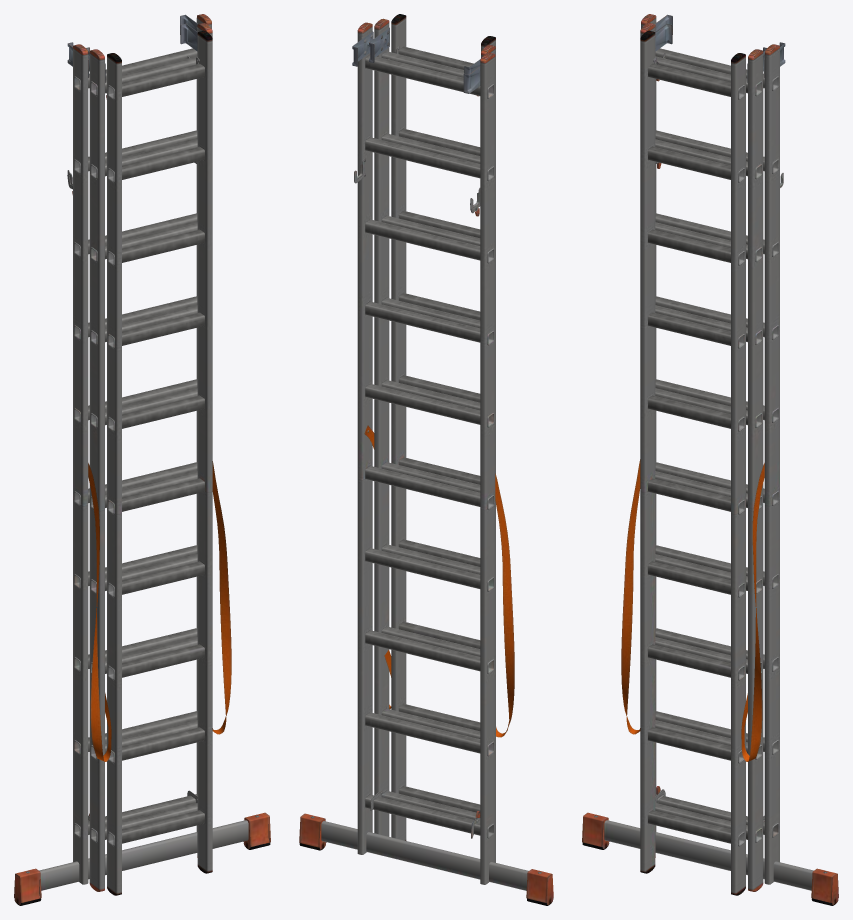
The model's file is ladder_sectioned_01.glb.
3 renders of one model, left to right at view 1: azimuth 30°, elevation 25°; view 2: azimuth 150°, elevation 25°; view 3: azimuth 330°, elevation 25°, orthographic.
Parts seen in each view (by area): view 1: ladder_section_03, ladder_section_01, ladder_section_02, ladder_ribbon; view 2: ladder_section_01, ladder_section_02, ladder_section_03, ladder_ribbon; view 3: ladder_section_03, ladder_section_01, ladder_section_02, ladder_ribbon.
Boxes of the visible parts, x1,y1,x2,y2 form: ladder_section_03: [106, 30, 212, 895]; ladder_section_01: [14, 14, 270, 905]; ladder_section_02: [86, 23, 212, 891]; ladder_ribbon: [88, 461, 231, 761]; ladder_section_01: [299, 22, 553, 905]; ladder_section_02: [369, 18, 495, 862]; ladder_section_03: [388, 14, 495, 840]; ladder_ribbon: [364, 425, 514, 737]; ladder_section_03: [640, 30, 745, 895]; ladder_section_01: [582, 14, 838, 905]; ladder_section_02: [640, 23, 766, 891]; ladder_ribbon: [621, 459, 764, 761].
Size of the model in its own units: 0.6615 by 2.13 by 0.1776.
Materials: 1 (1 with a texture image).
